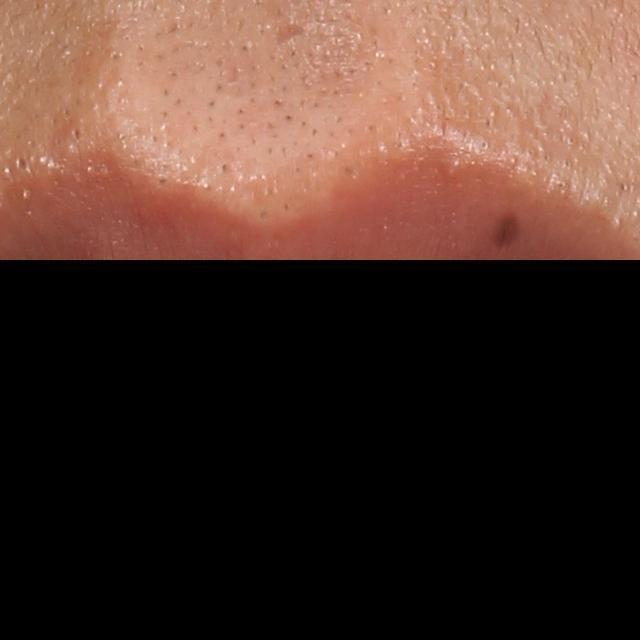atrophic_scar: (274, 22, 306, 51)
comedo: (15, 153, 31, 175)
nevus: (493, 215, 525, 249)
